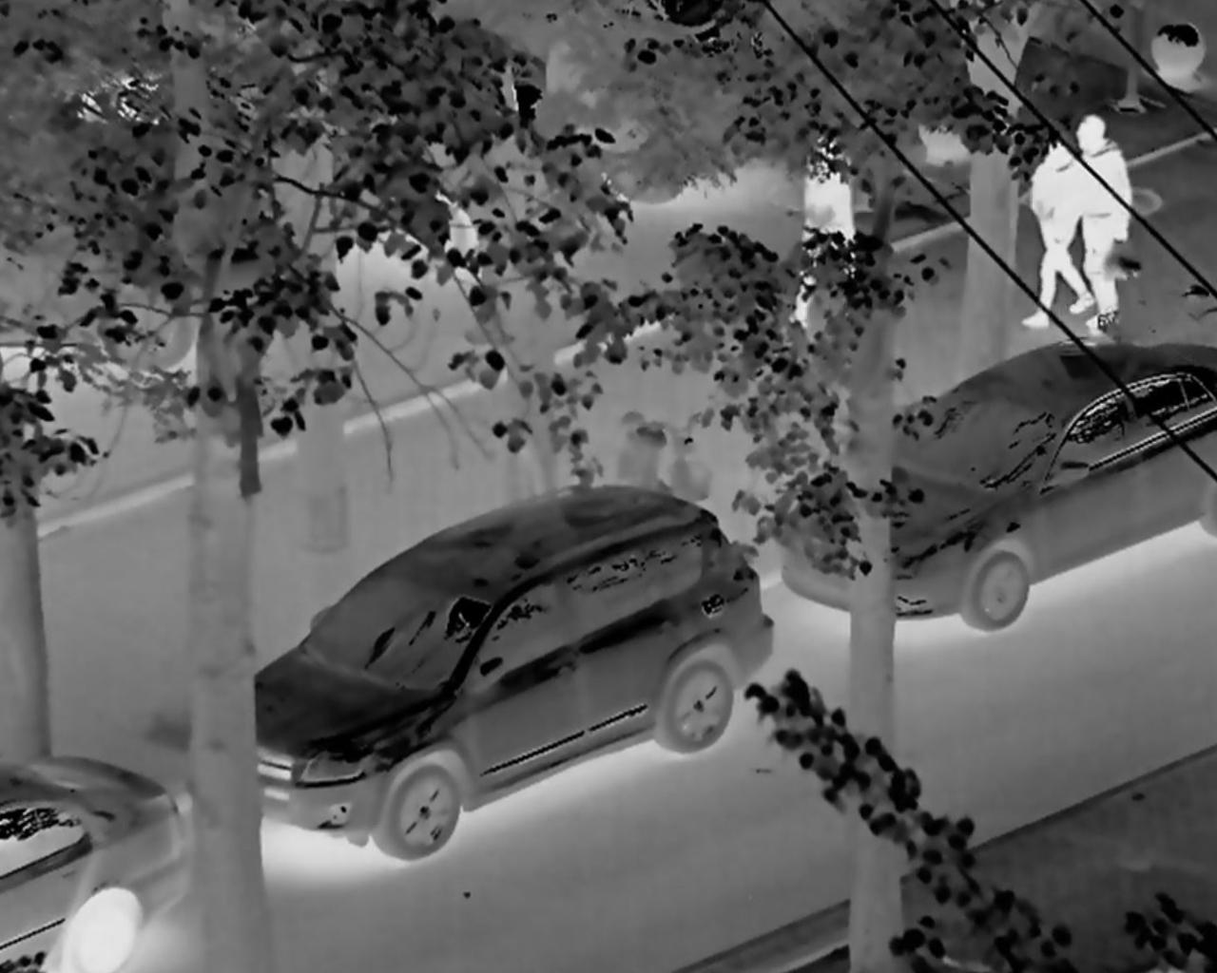person: (785, 115, 874, 338), (1062, 106, 1140, 338), (1005, 123, 1090, 331)
